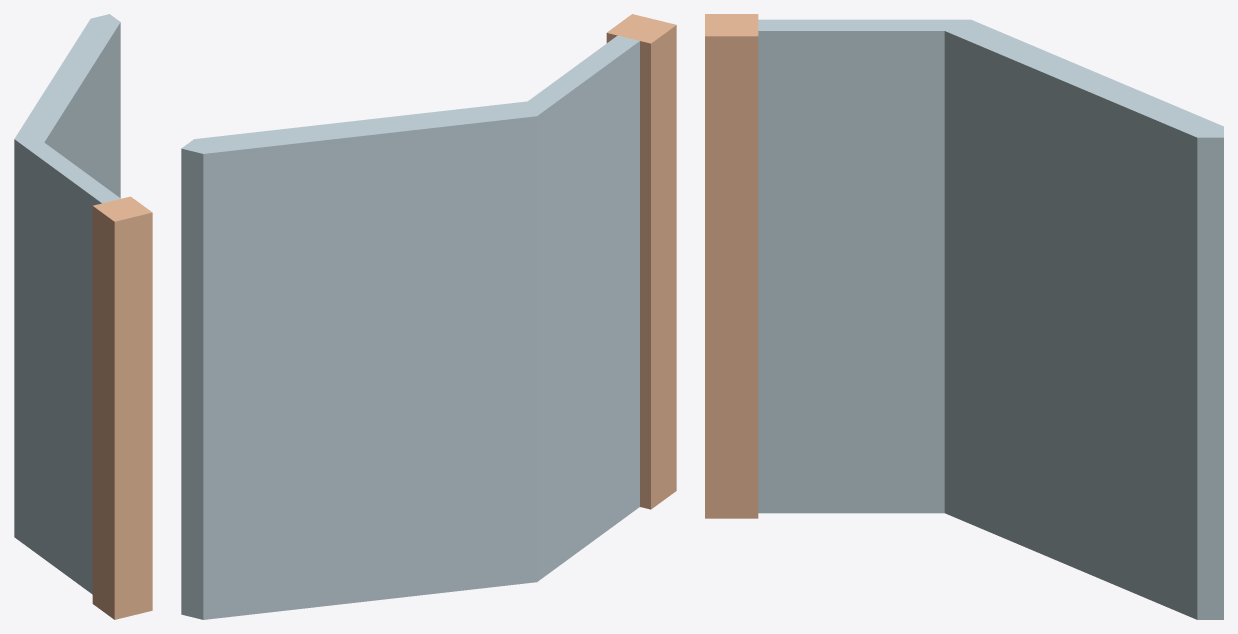
Rendered from wallCornerDiagonalHalf.glb.
3 renders of one model, left to right at view 1: azimuth 30°, elevation 25°; view 2: azimuth 150°, elevation 25°; view 3: azimuth 270°, elevation 25°, orthographic. The views are drawn at different scales.
Parts seen in each view (by area): view 1: wallCornerDiagonalHalf; view 2: wallCornerDiagonalHalf; view 3: wallCornerDiagonalHalf.
Boxes of the visible parts, x1,y1,x2,y2 form: wallCornerDiagonalHalf: [14, 14, 152, 619]; wallCornerDiagonalHalf: [181, 14, 676, 619]; wallCornerDiagonalHalf: [705, 14, 1223, 619].
Size of the model in its own units: 0.55 by 1 by 0.975.
